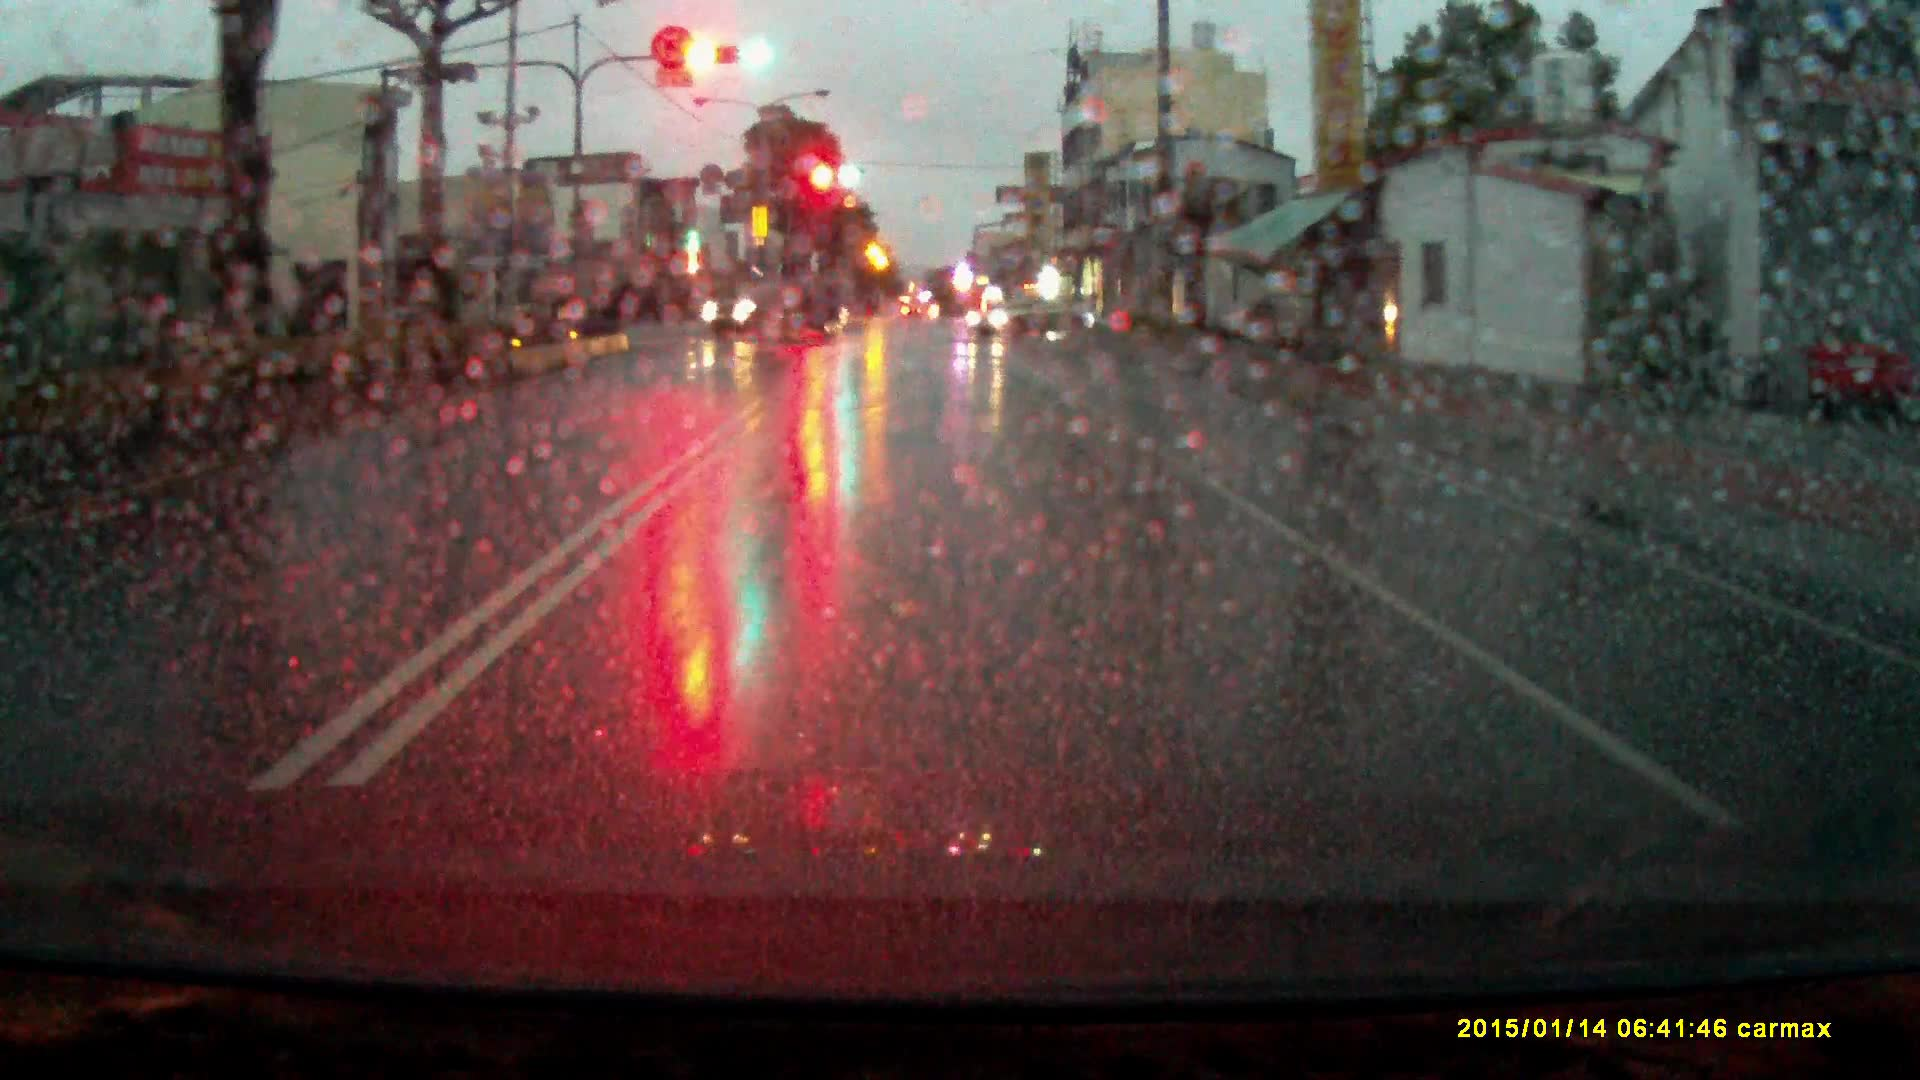vehicle: (702, 274, 851, 345), (967, 295, 1098, 342)
